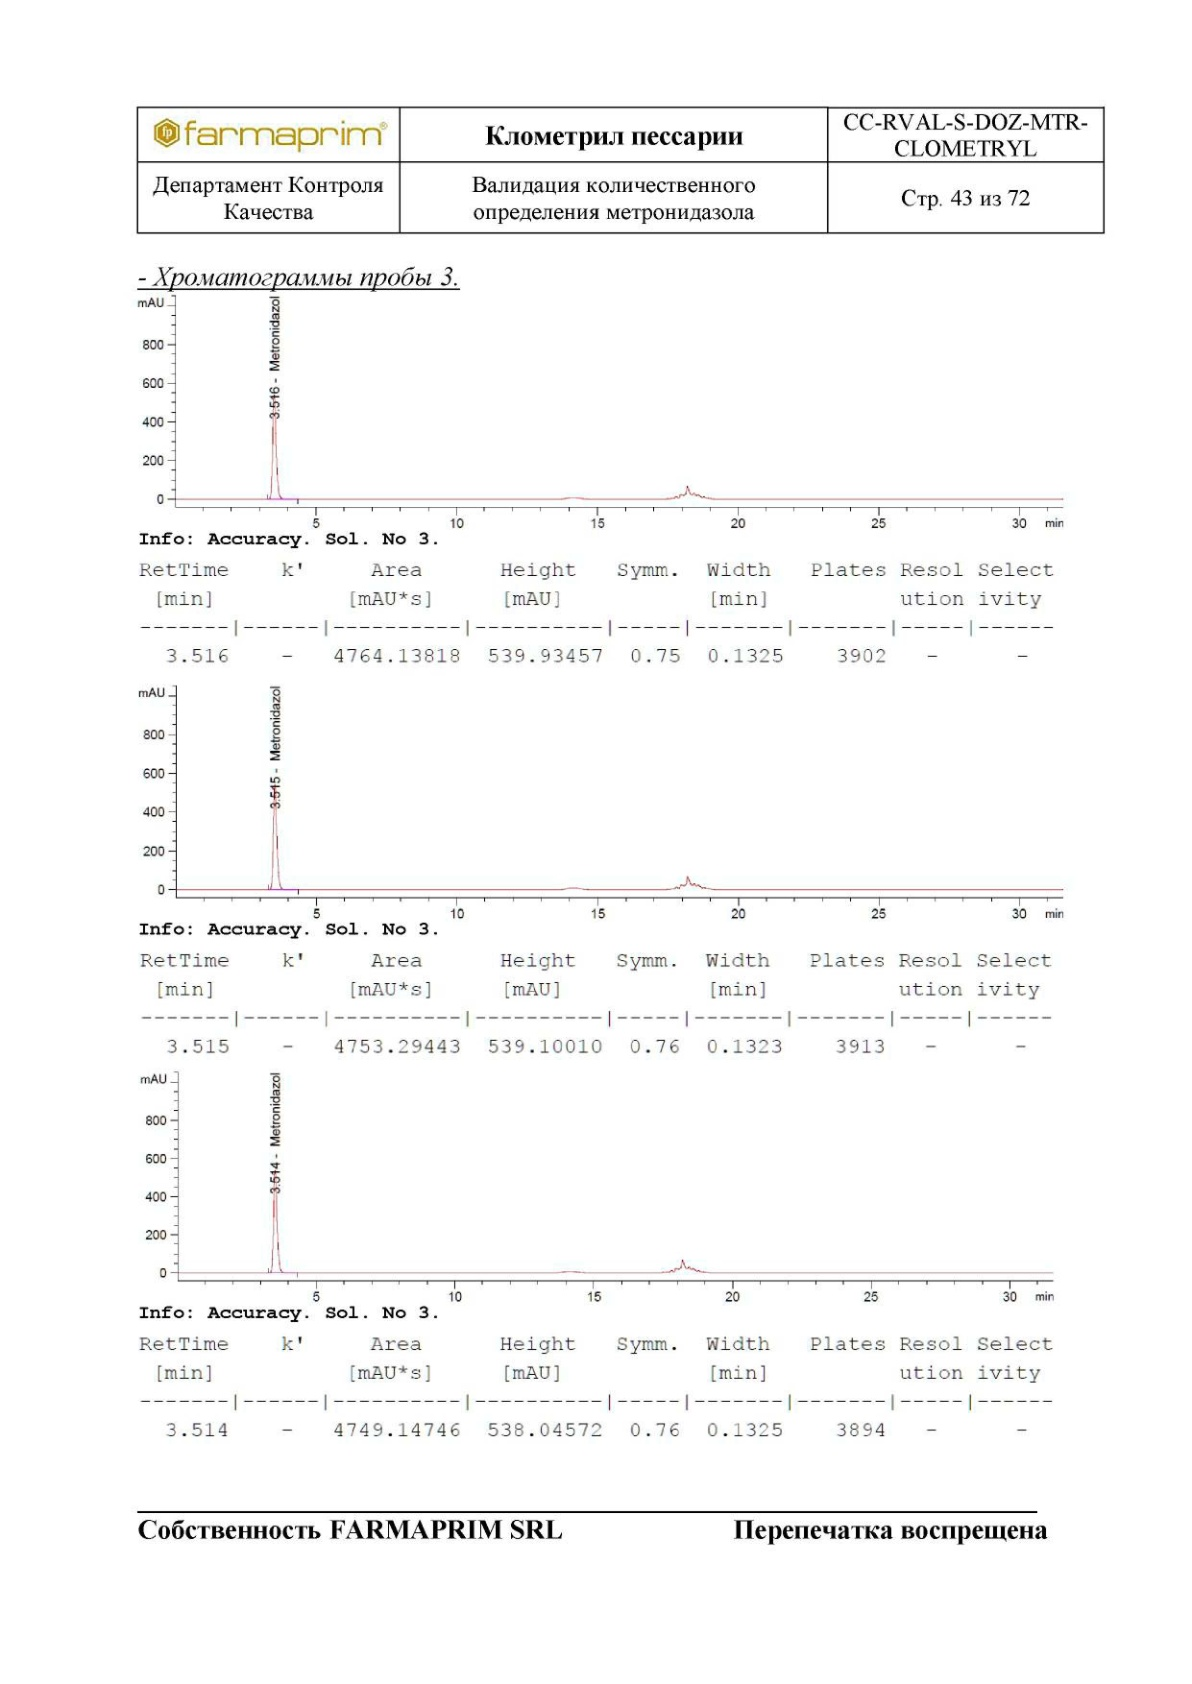full_lined: (135, 104, 1106, 236)
partial_lined: (135, 1335, 1058, 1447), (137, 558, 1060, 669), (137, 949, 1057, 1059)
